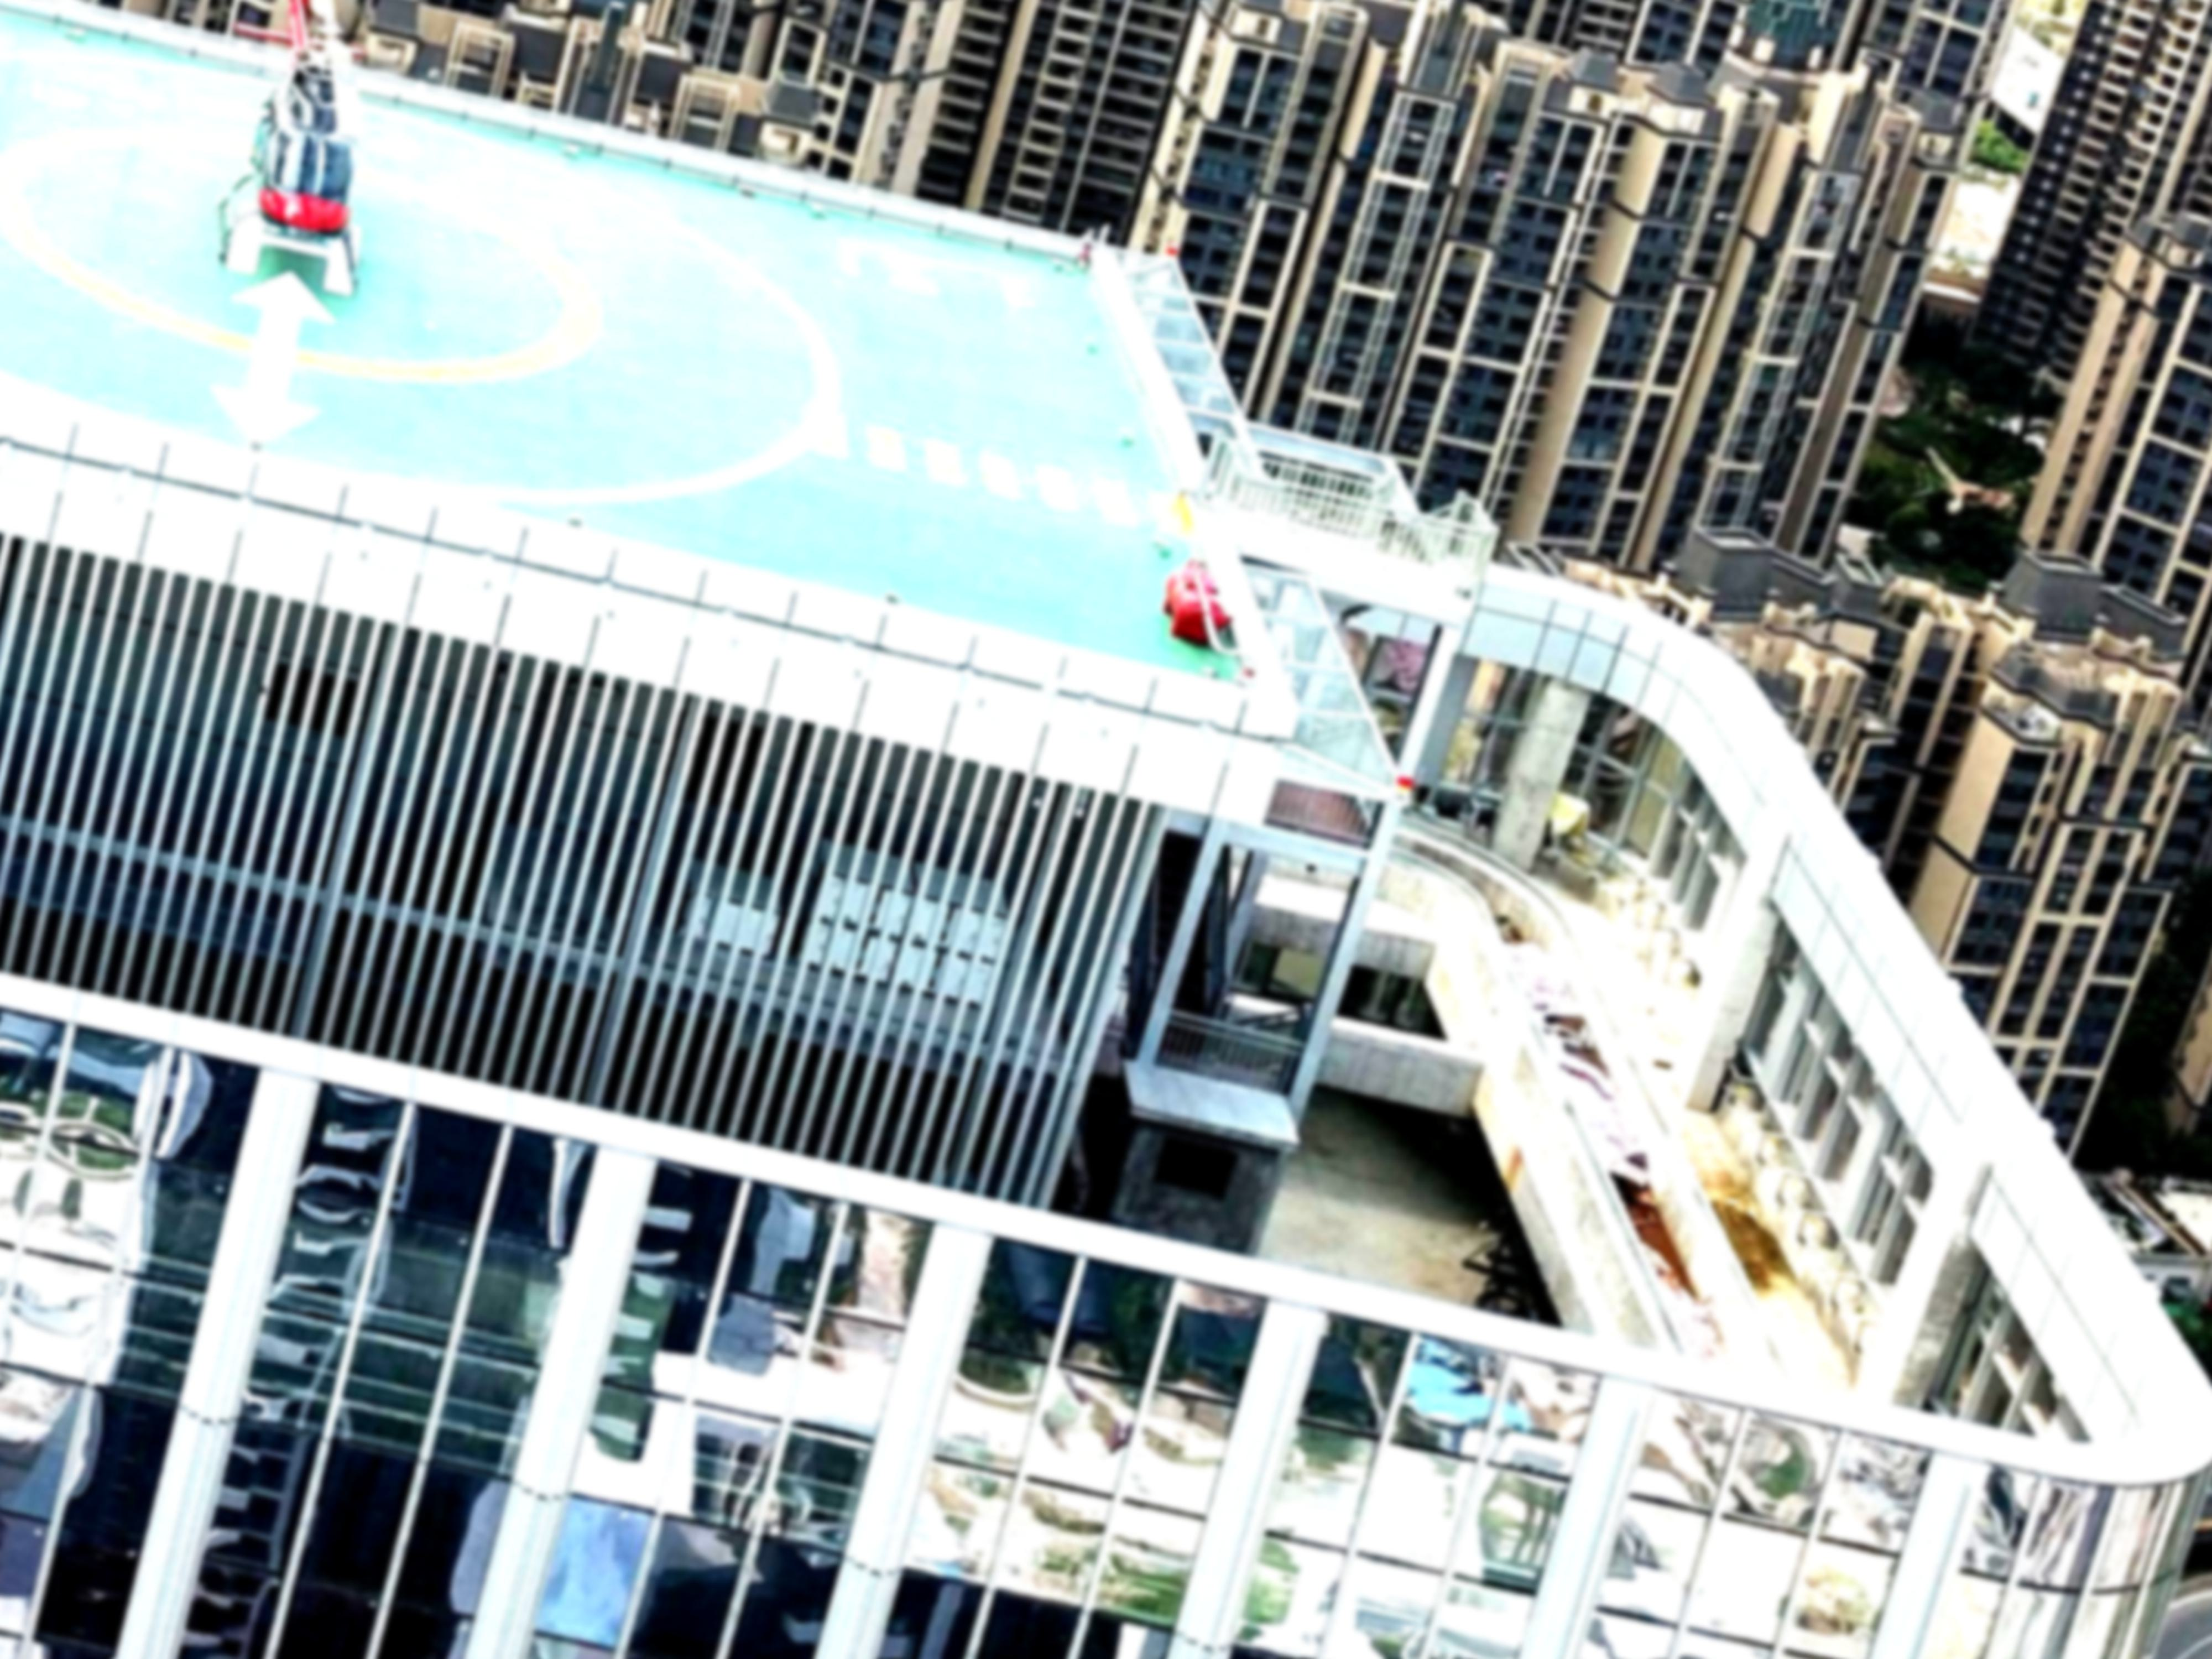Apron: (0, 63, 610, 403)
